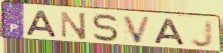A: (25, 9, 60, 39), (153, 18, 187, 47)
J: (189, 19, 215, 49)
N: (59, 10, 88, 42)
S: (92, 13, 120, 43)
V: (121, 14, 153, 45)
